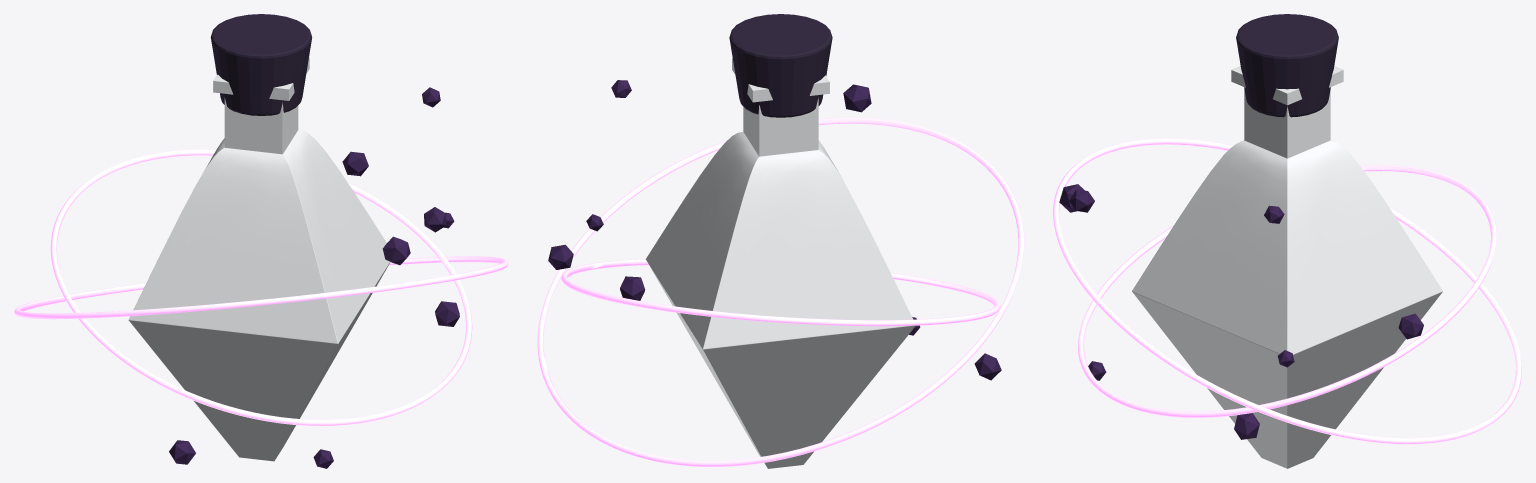
File: voidessence.glb
3 renders of one model, left to right at view 1: azimuth 30°, elevation 25°; view 2: azimuth 150°, elevation 25°; view 3: azimuth 270°, elevation 25°, orthographic.
Visible parts, largest first — view 1: VoidEssence_Glass, VoidEssence_Cork, VoidEssence_RuneRing1, VoidEssence_RuneRing2, VoidEssence_Fragment.003, VoidEssence_Fragment.005; view 2: VoidEssence_Glass, VoidEssence_Cork, VoidEssence_RuneRing2, VoidEssence_RuneRing1, VoidEssence_Fragment.003, VoidEssence_Fragment.002, VoidEssence_Fragment.005; view 3: VoidEssence_Glass, VoidEssence_Cork, VoidEssence_RuneRing2, VoidEssence_RuneRing1, VoidEssence_Fragment.005.
Part boxes in pixels (x1=…): VoidEssence_Glass: x1=128, y1=57, x2=390, y2=461; VoidEssence_Cork: x1=210, y1=14, x2=312, y2=115; VoidEssence_RuneRing1: x1=50, y1=149, x2=472, y2=425; VoidEssence_RuneRing2: x1=14, y1=256, x2=508, y2=319; VoidEssence_Fragment.003: x1=382, y1=236, x2=410, y2=265; VoidEssence_Fragment.005: x1=435, y1=301, x2=459, y2=326; VoidEssence_Glass: x1=645, y1=58, x2=915, y2=468; VoidEssence_Cork: x1=729, y1=14, x2=832, y2=117; VoidEssence_RuneRing2: x1=537, y1=117, x2=1024, y2=467; VoidEssence_RuneRing1: x1=561, y1=259, x2=1000, y2=326; VoidEssence_Fragment.003: x1=843, y1=84, x2=871, y2=112; VoidEssence_Fragment.002: x1=548, y1=244, x2=573, y2=269; VoidEssence_Fragment.005: x1=620, y1=276, x2=645, y2=300; VoidEssence_Glass: x1=1132, y1=66, x2=1442, y2=468; VoidEssence_Cork: x1=1236, y1=14, x2=1338, y2=117; VoidEssence_RuneRing2: x1=1053, y1=138, x2=1521, y2=444; VoidEssence_RuneRing1: x1=1077, y1=164, x2=1497, y2=417; VoidEssence_Fragment.005: x1=1234, y1=413, x2=1259, y2=439.
Size of the model in its own units: 2.32 by 2.16 by 2.17.
